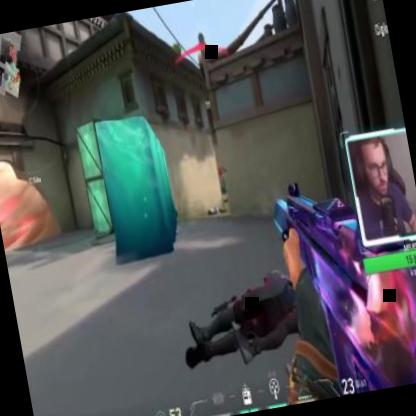enemy: (219, 168, 229, 194)
